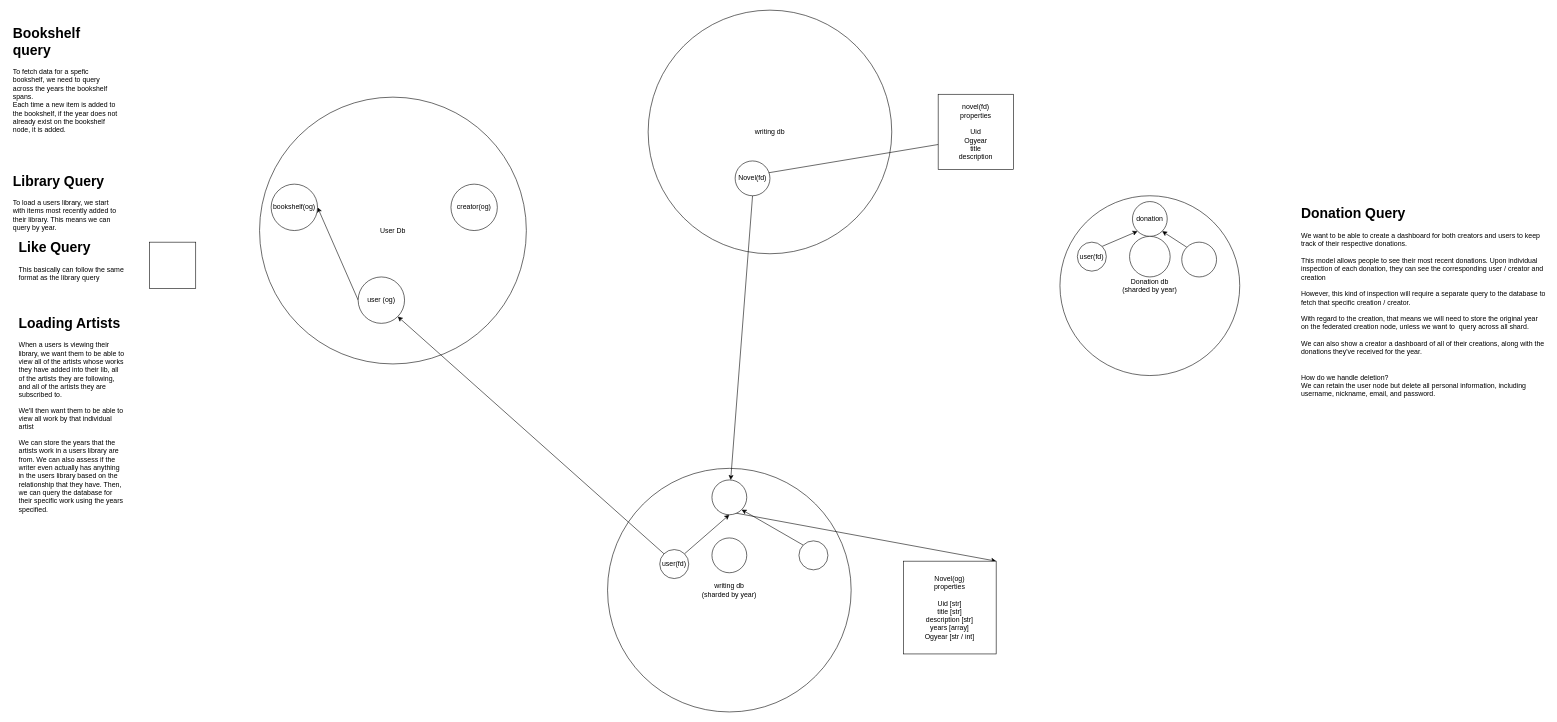
Some shapes in this 1557 by 722 pixel diagram are drawn without their labels. Here are the shapes that lost their labels. From the top down, the centre of each, then its label:
At pixel 172 265: "bookshelf(og) properties Years[array[".
At pixel 1149 256: "creation(fd)".
At pixel 1199 259: "creator(fd)".
At pixel 729 497: "Novel(og)".
At pixel 729 555: "bookshelf (fd)".
At pixel 813 555: "creator (fd)".
